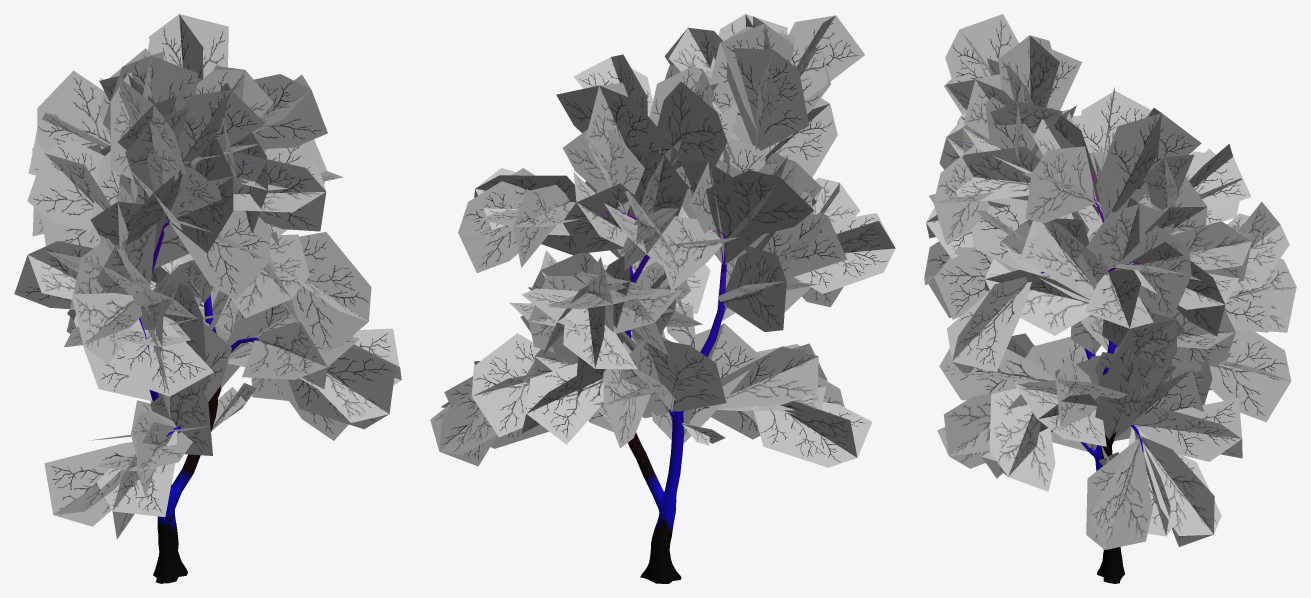
The model's file is Tree_C_02.FBX.
3 views of the same model, side by side, from view 1: azimuth 30°, elevation 25°; view 2: azimuth 150°, elevation 25°; view 3: azimuth 270°, elevation 25° (orthographic). The views are drawn at different scales.
Visible parts, largest first — view 1: Tree_C_02_LOD0; view 2: Tree_C_02_LOD0; view 3: Tree_C_02_LOD0.
Part boxes in pixels (x1,y1,x2,y2): Tree_C_02_LOD0: (14,14,401,583); Tree_C_02_LOD0: (430,14,895,583); Tree_C_02_LOD0: (924,14,1296,583).
Size of what is drawn, in the model's own units: 1570 by 2222 by 1462.
